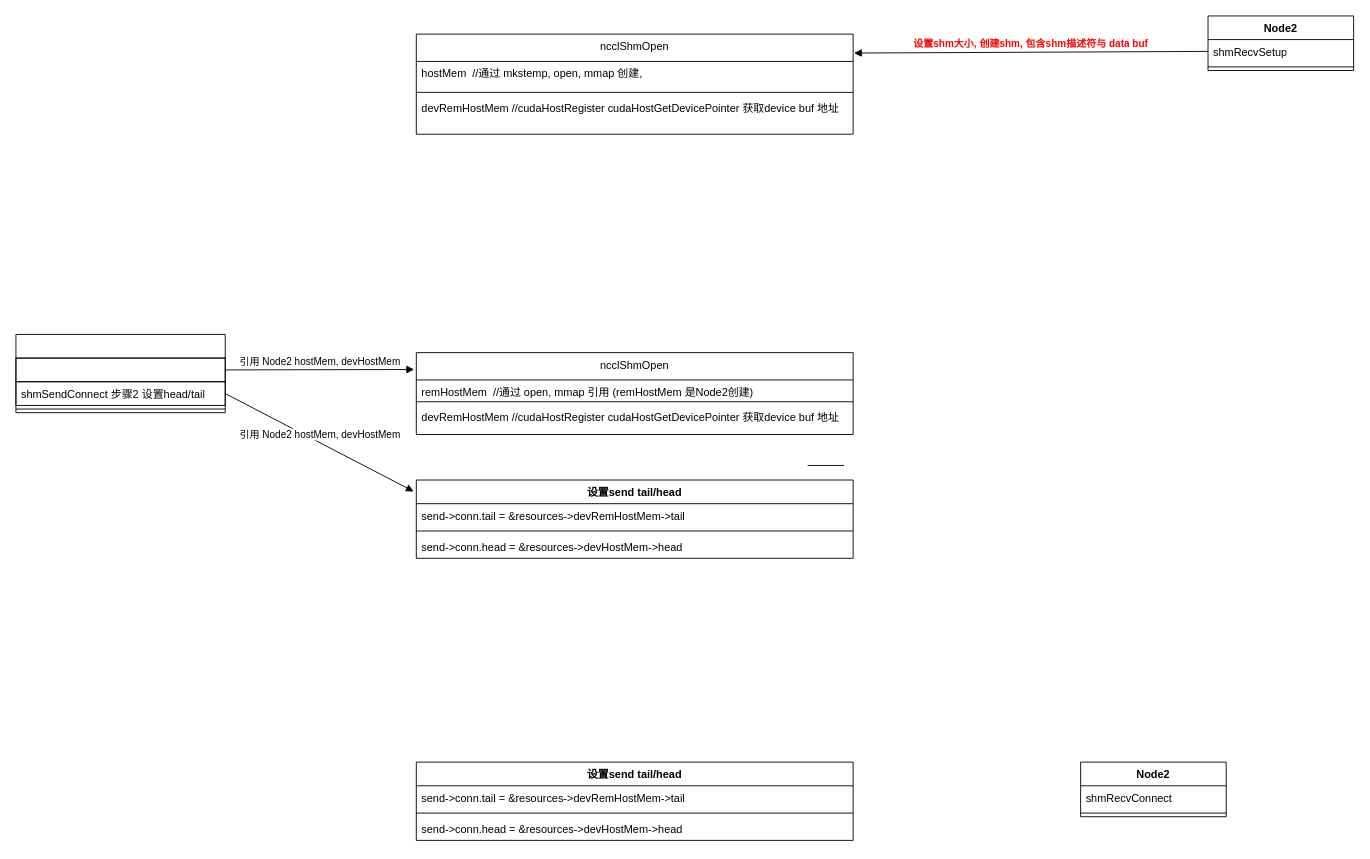
Some shapes in this 1370 by 859 pixel diagram are drawn without their labels. Here are the shapes that lost their labels. From the top down, the box of each, then its label:
(15, 357, 225, 382): shmSendConnect 步骤1 设置对端buf
(15, 334, 225, 413): Node1
